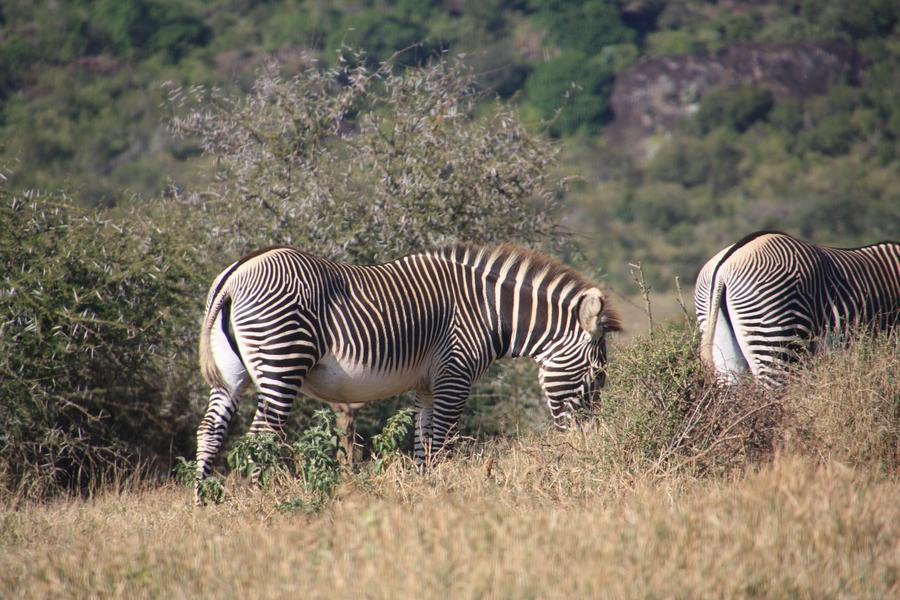zebra_grevys: (222, 232, 483, 376)
